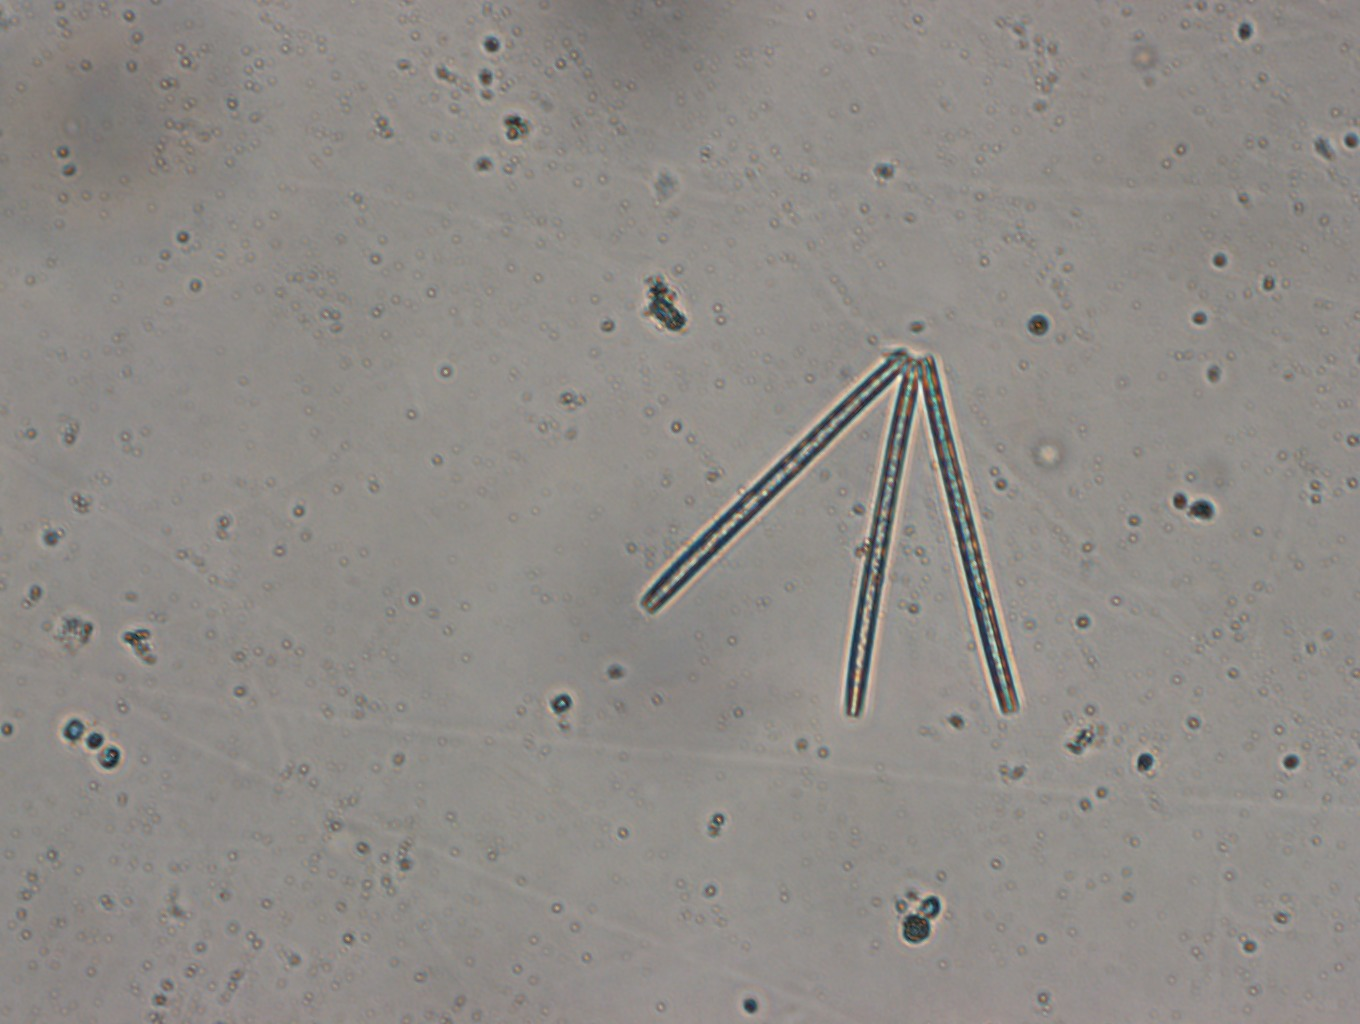thalassionema nitzschioides: (632, 342, 1021, 720)
